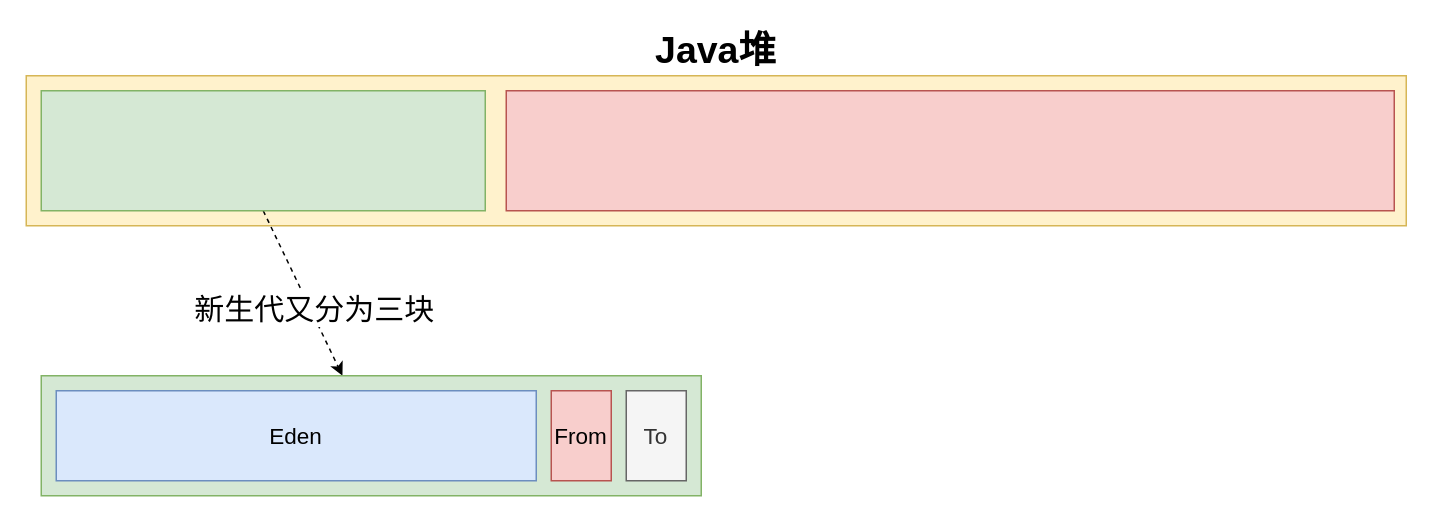
Image size: 1433x522. Some labels were removed from this diagram. The centre of each missing label's shape, as x and y in pixels:
Old 老年代 占据2/3堆空间: point (949, 150)
Young 新生代 占据1/3堆空间: point (262, 150)
